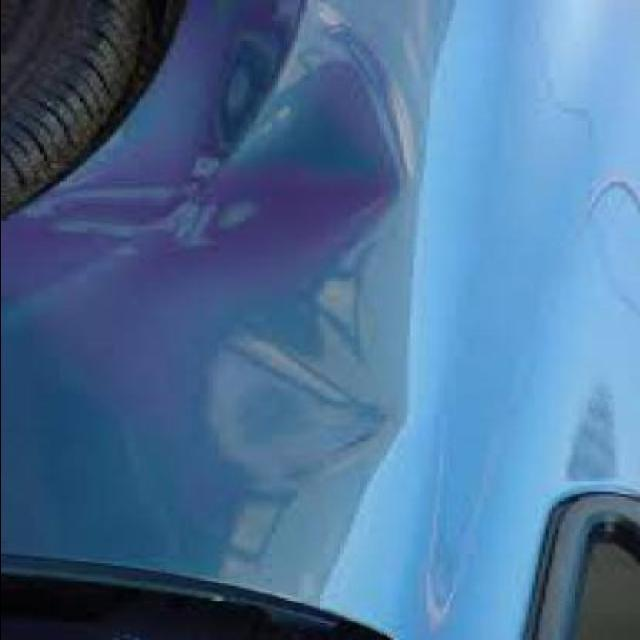fender-dent: (186, 11, 420, 281), (197, 295, 421, 520)
